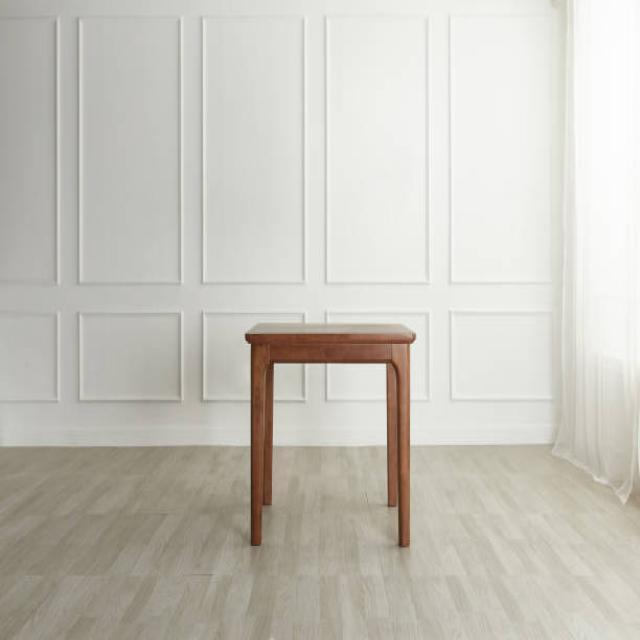table: (244, 322, 416, 548)
